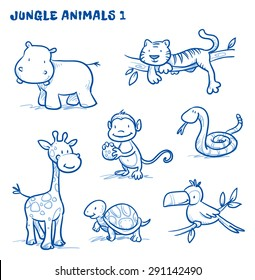animal: (15, 128, 85, 245), (118, 31, 230, 94), (15, 40, 105, 112), (97, 114, 177, 176), (176, 104, 255, 157), (80, 192, 149, 243)
bird: (154, 178, 246, 242)
